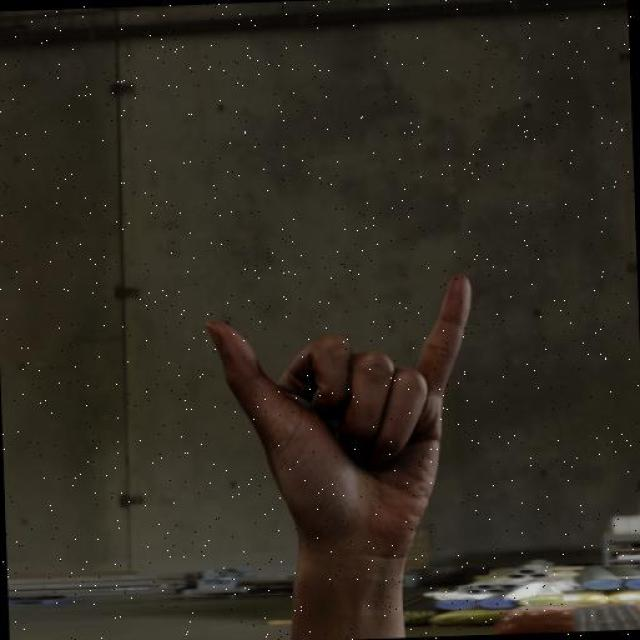Y: (171, 255, 524, 630)
